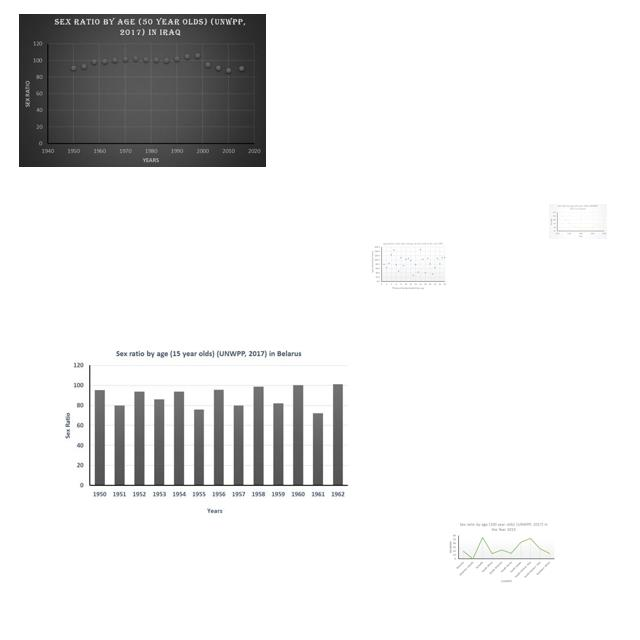Graph: (59, 346, 357, 520), (19, 14, 266, 167), (447, 520, 556, 584), (370, 241, 447, 290), (549, 204, 607, 239)
